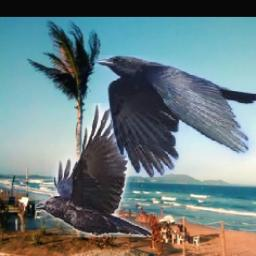Crow: (94, 55, 256, 177), (35, 104, 152, 238)
